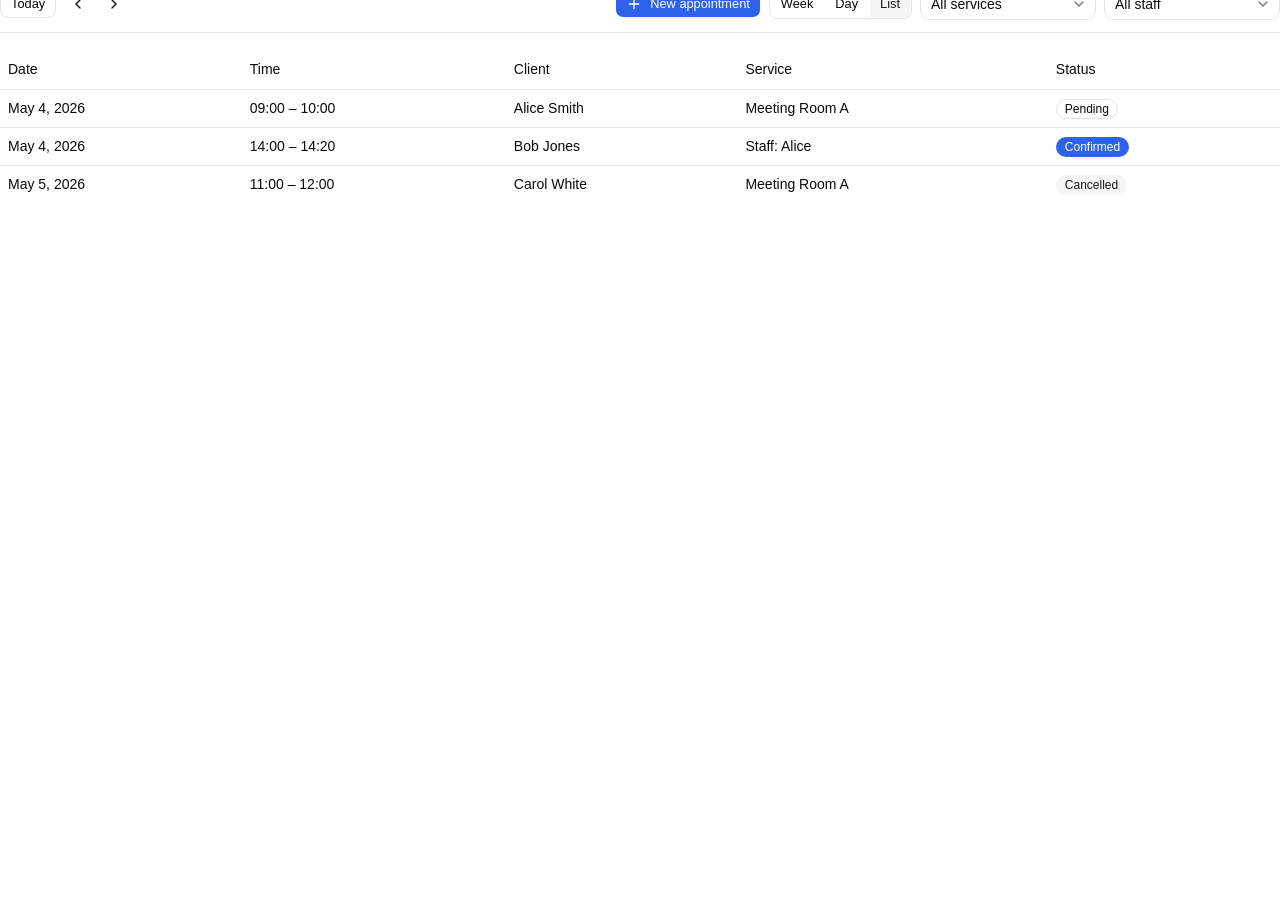
Test case: Appointments Calendar › List view › clicking a row opens the appointment detail dialog
The width and height of the screenshot is (1280, 900).
Step 1. Click the text "Alice Smith" → [549, 108], box [506,89,738,127]
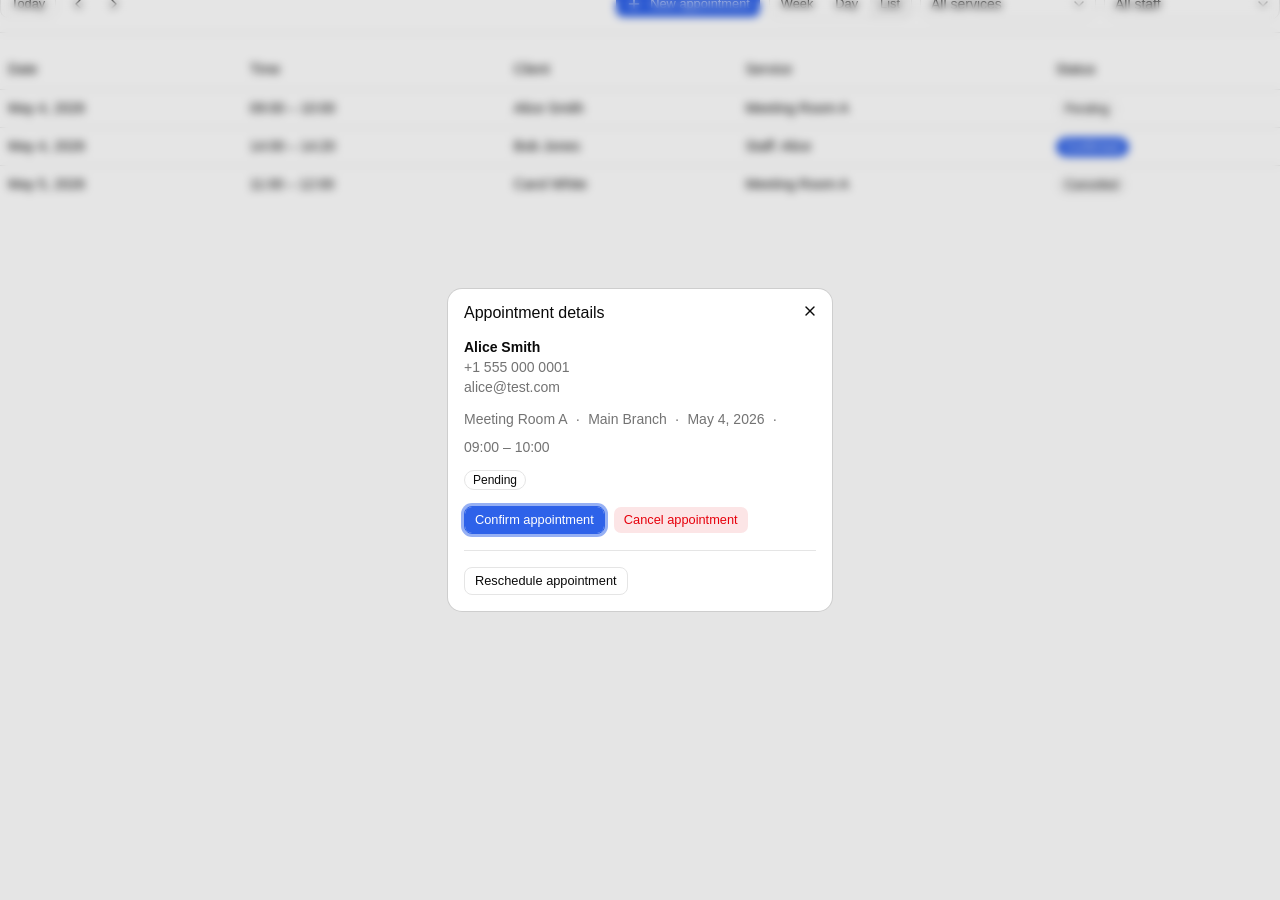
expect the dialog is shown: met, box [448,289,832,611]
